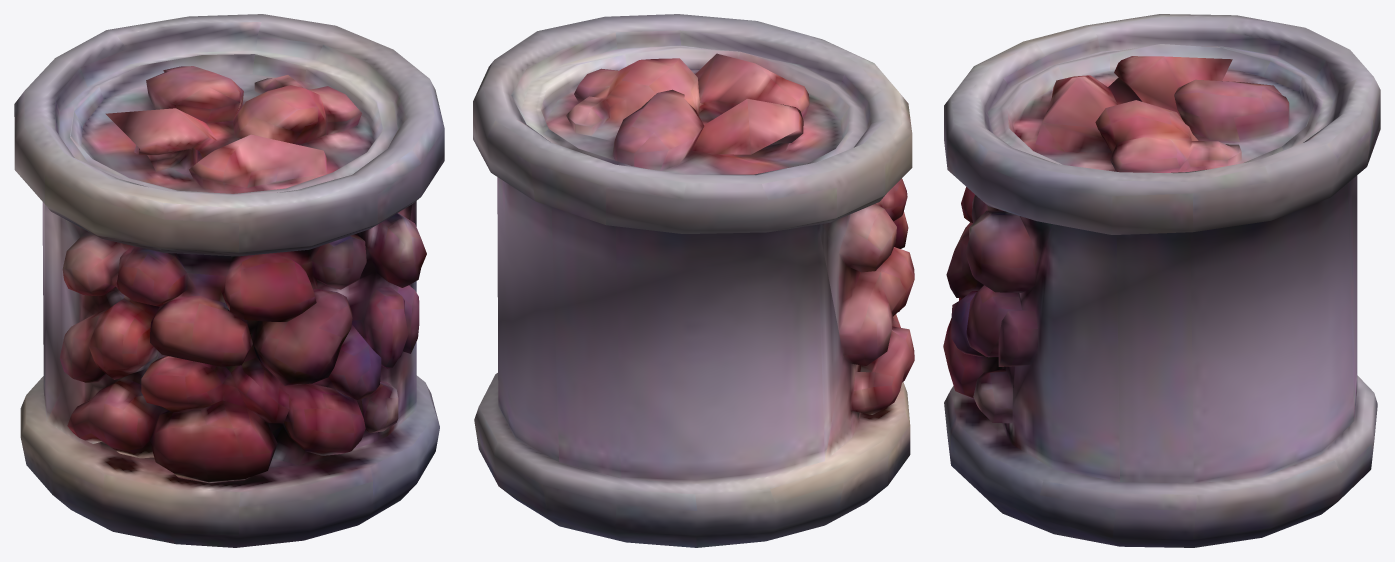
File: kidney-beans.glb
3 renders of one model, left to right at view 1: azimuth 30°, elevation 25°; view 2: azimuth 150°, elevation 25°; view 3: azimuth 270°, elevation 25°, orthographic. The views are drawn at different scales.
Parts seen in each view (by area): view 1: Kidney Beans; view 2: Kidney Beans; view 3: Kidney Beans.
Part boxes in pixels (left/top/right/bottom): Kidney Beans: left=14, top=14, right=444, bottom=547; Kidney Beans: left=473, top=14, right=914, bottom=547; Kidney Beans: left=943, top=14, right=1380, bottom=547.
Bounding box in the file's own units: 1.44 × 1.38 × 1.42.
1 material, 1 textured.
